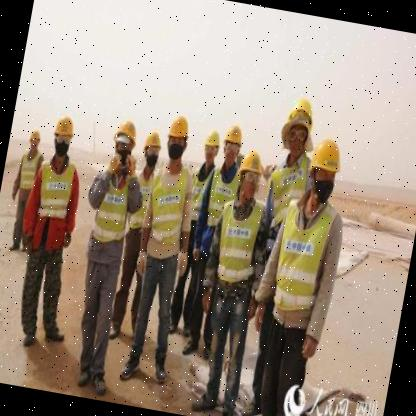capacete: (300, 130, 348, 212), (108, 115, 140, 165), (236, 145, 270, 182), (283, 94, 321, 124), (166, 112, 194, 146), (50, 110, 79, 141), (221, 120, 246, 150), (141, 126, 166, 156), (202, 128, 223, 152), (27, 126, 44, 144)
oculos: (238, 169, 262, 186)
